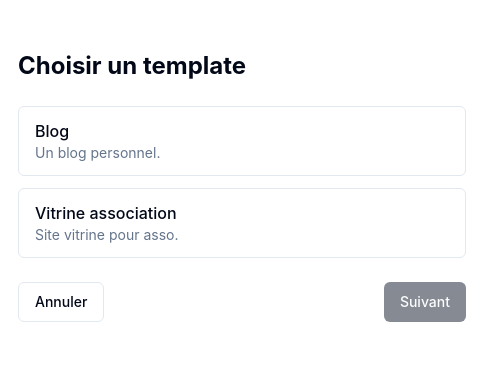
NewProjectWizard › shows error message on generation failure
This screenshot has width=487, height=378.
Click the text "Blog": x=52, y=131 [35,121,69,141]
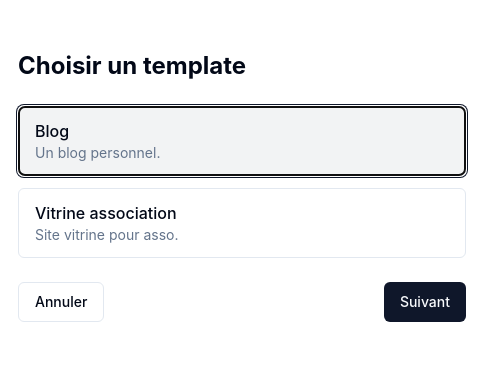
Click the button "Suivant": x=425, y=302 [384,282,466,322]
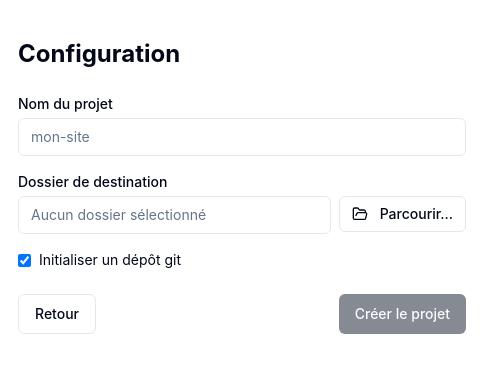
In the field with placeholder "mon-site": x=242, y=137 [18,118,466,156], type "test"
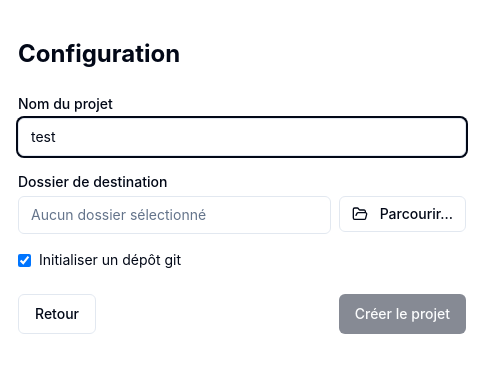
Click the button "Parcourir…": x=402, y=214 [339,196,466,232]
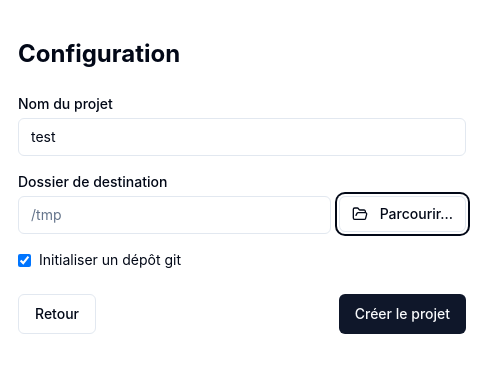
Now the text "/tmp" is shown, box [18,196,331,234]
Click the button "Créer le projet": x=402, y=314 [339,294,466,334]
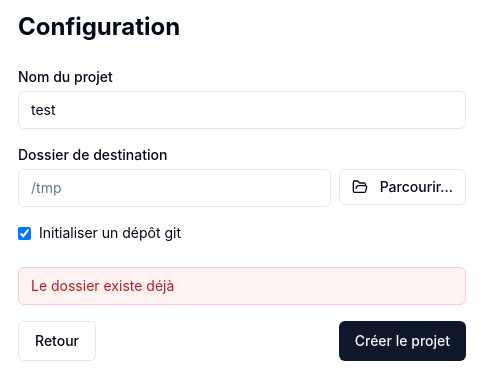
Now the text "Le dossier existe déjà" is shown, box [18,267,466,305]
